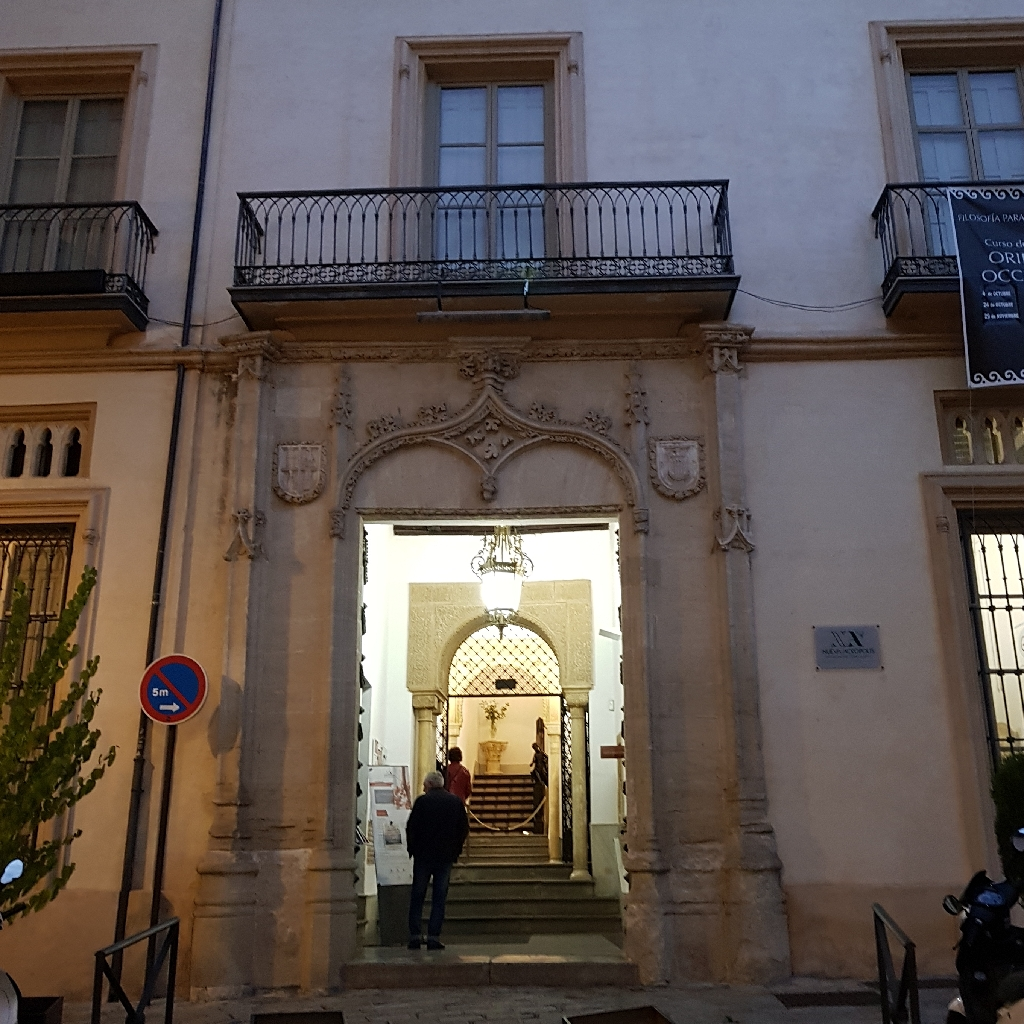arco-conopial: (343, 374, 638, 480)
